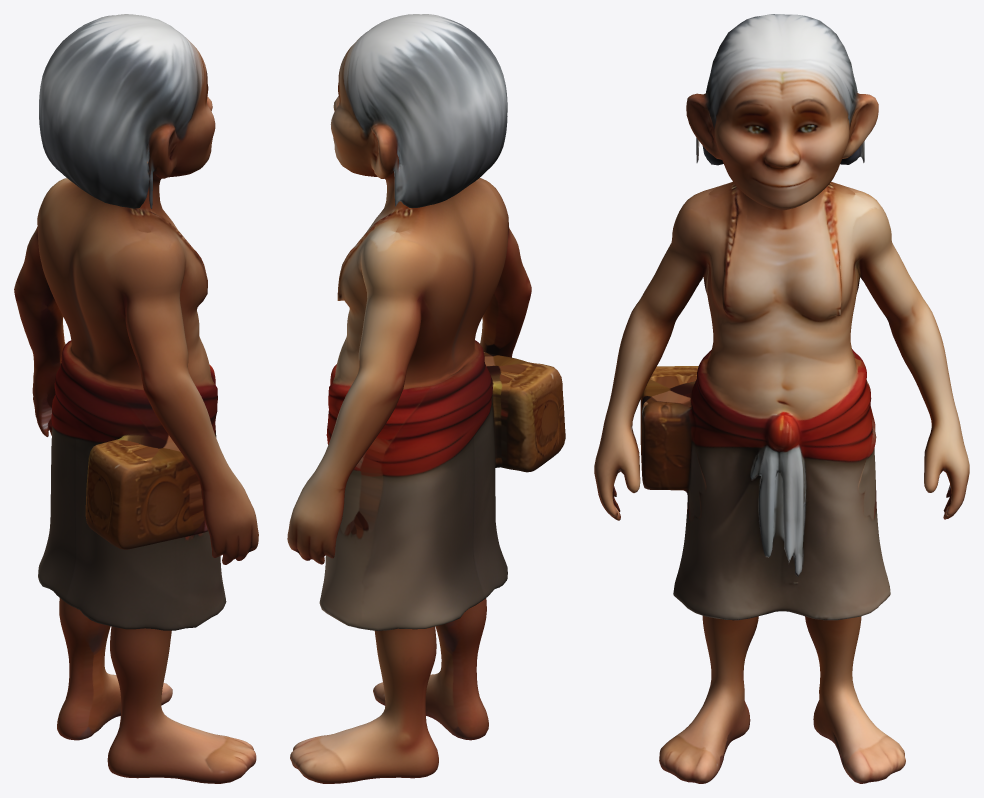
Rendered from Char_Manggagamot-v2.fbx.
3 views of the same model, side by side, from view 1: azimuth 30°, elevation 25°; view 2: azimuth 150°, elevation 25°; view 3: azimuth 270°, elevation 25° (orthographic).
Visible parts, largest first — view 1: model; view 2: model; view 3: model.
Part boxes in pixels (<box>): model: <box>14,14,258,783</box>; model: <box>287,14,565,783</box>; model: <box>594,14,969,783</box>.
Size of the model in its own units: 71.4 by 298 by 140.
Materials: 1 (1 with a texture image).
